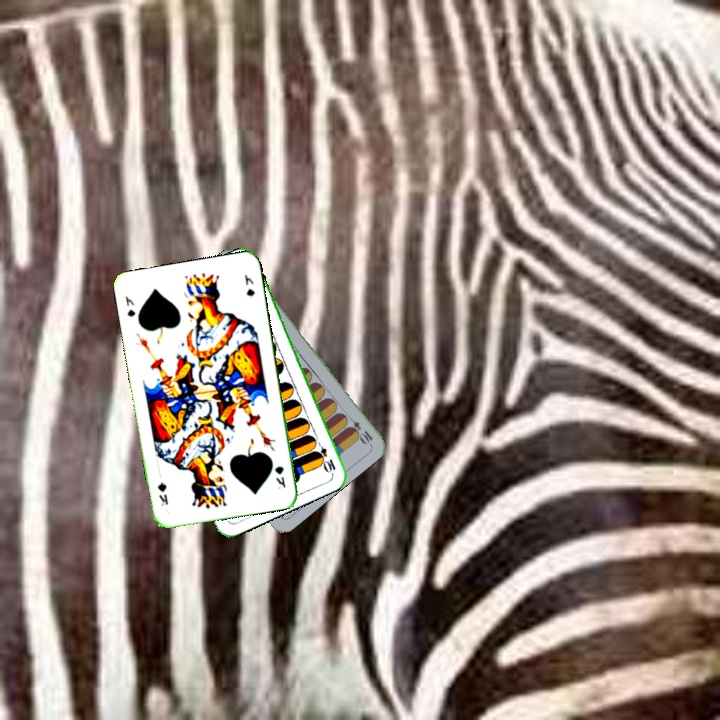E10: (342, 411, 375, 446), (313, 436, 338, 474)
GK: (271, 462, 288, 490), (121, 292, 138, 319)
